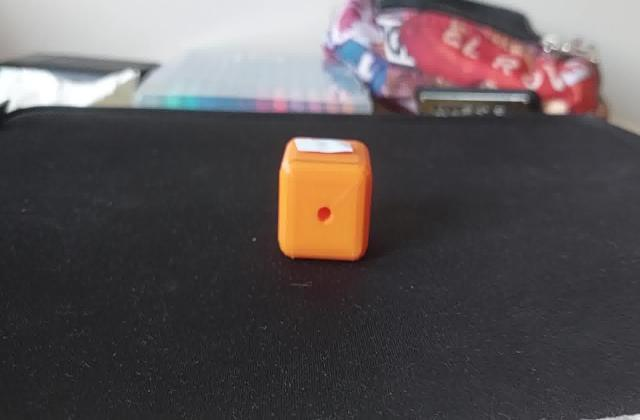cube: (273, 134, 377, 266)
white: (292, 136, 355, 156)
